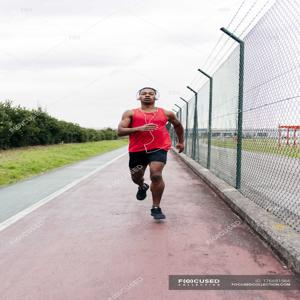Headphones: (134, 85, 161, 103)
